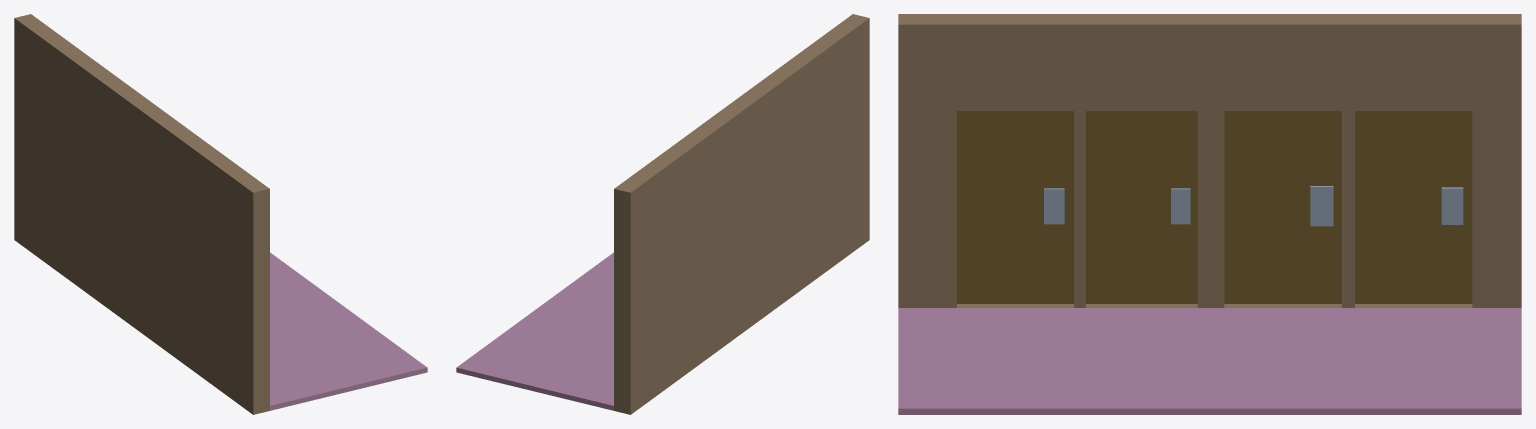
File: SC_Hallway_FBX.fbx
The picture shows the model from 3 angles, left to right: view 1: azimuth 30°, elevation 25°; view 2: azimuth 150°, elevation 25°; view 3: azimuth 270°, elevation 25°; orthographic projection. The views are drawn at different scales.
Visible parts, largest first — view 1: Hallway; view 2: Hallway; view 3: Hallway.
Boxes of the visible parts, x1,y1,x2,y2 form: Hallway: [14, 14, 427, 414]; Hallway: [456, 14, 869, 414]; Hallway: [898, 14, 1521, 414].
Size of the model in its own units: 2.11 by 2.57 by 5.
